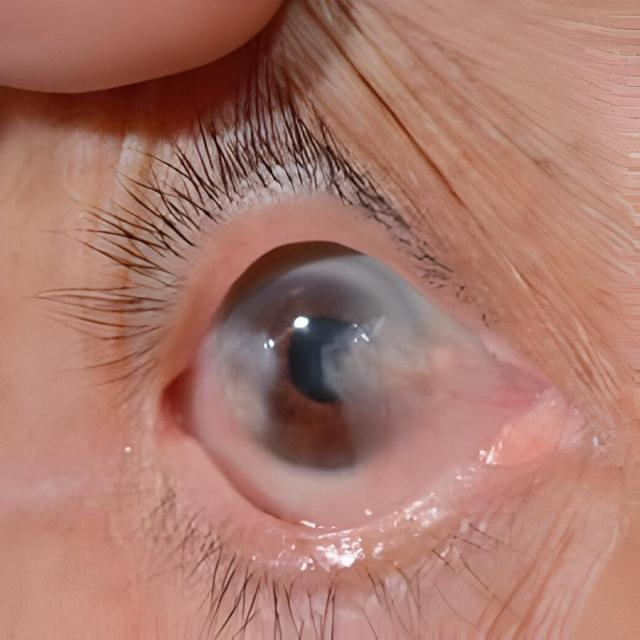Pterygium: (319, 277, 551, 514), (176, 310, 284, 472)
